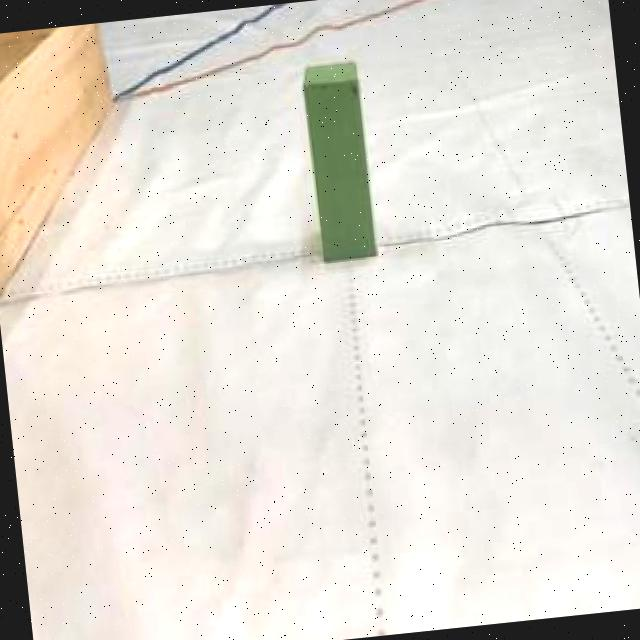greenbox: (297, 55, 380, 264)
